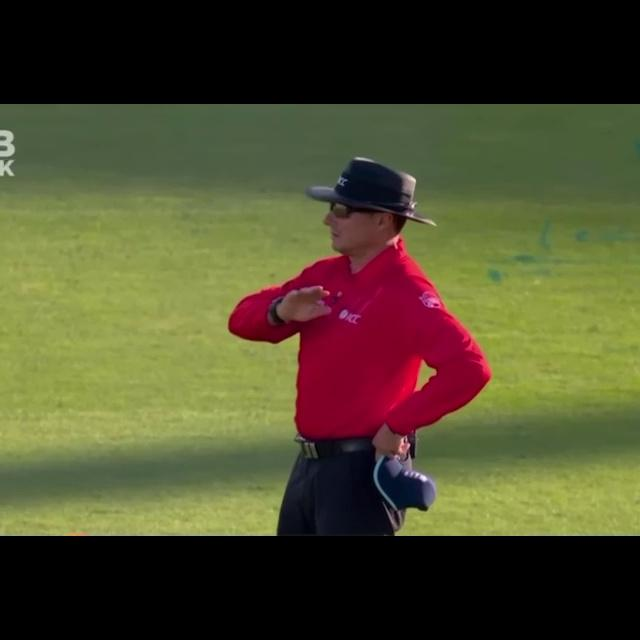umpire: (222, 138, 506, 533)
